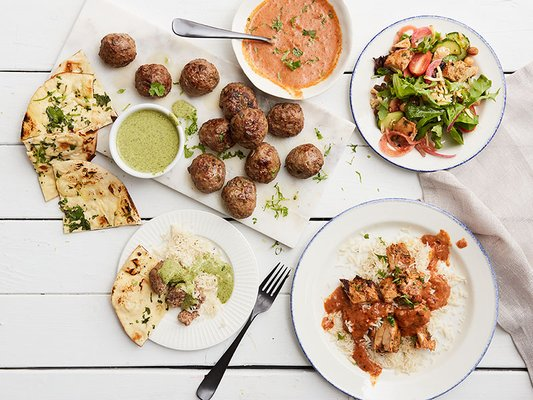salad: (170, 18, 274, 42)
sushi: (291, 198, 499, 400), (349, 15, 509, 173), (236, 0, 350, 101), (109, 103, 183, 179)
